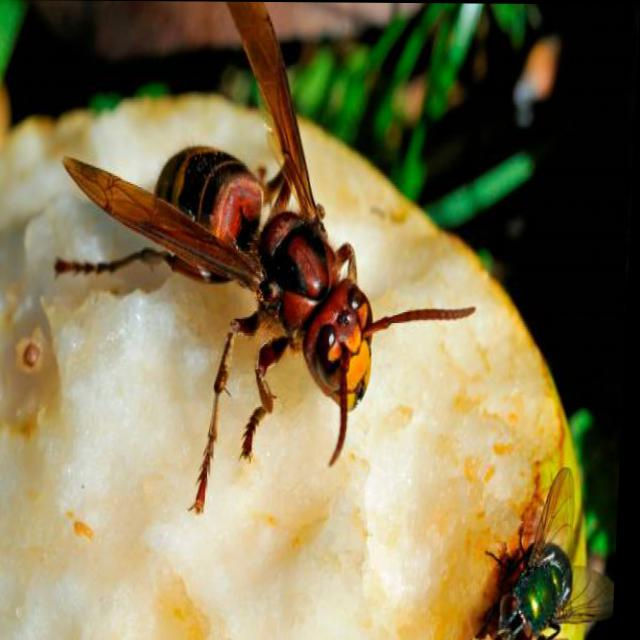Vespa Crabro: (36, 0, 480, 563)
